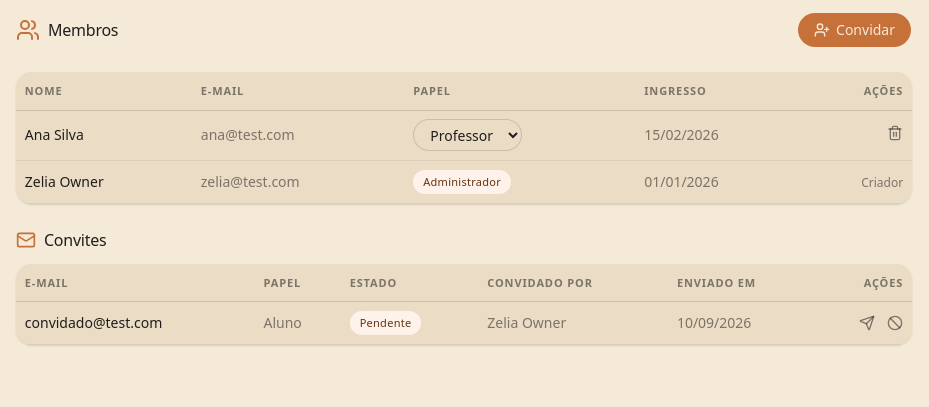
OrganizationMembersPage — invitations › resends an invitation with its email and role, then confirms it
What coordinates should you click on to do the following:
click the button named "Reenviar convite para convidado@test.com"
I would click on:
 (867, 323)
Its box is x1=859 y1=315 x2=875 y2=331.
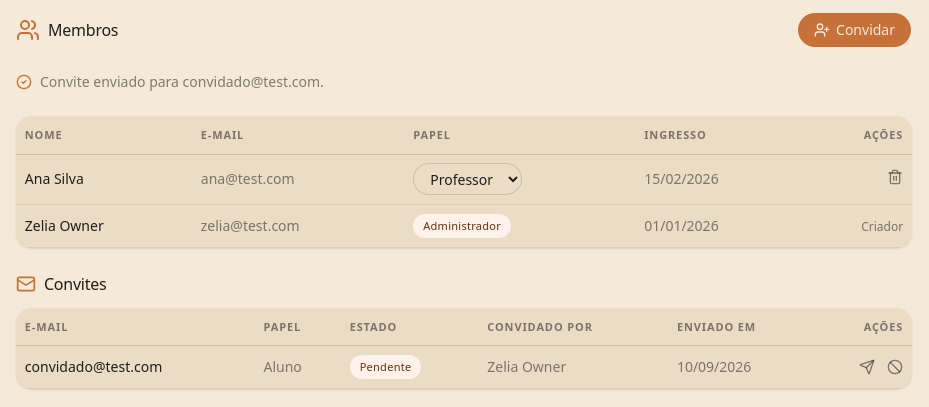
Result: the text "Convite enviado para convidado@test.com." is shown at x1=16 y1=72 x2=324 y2=91
